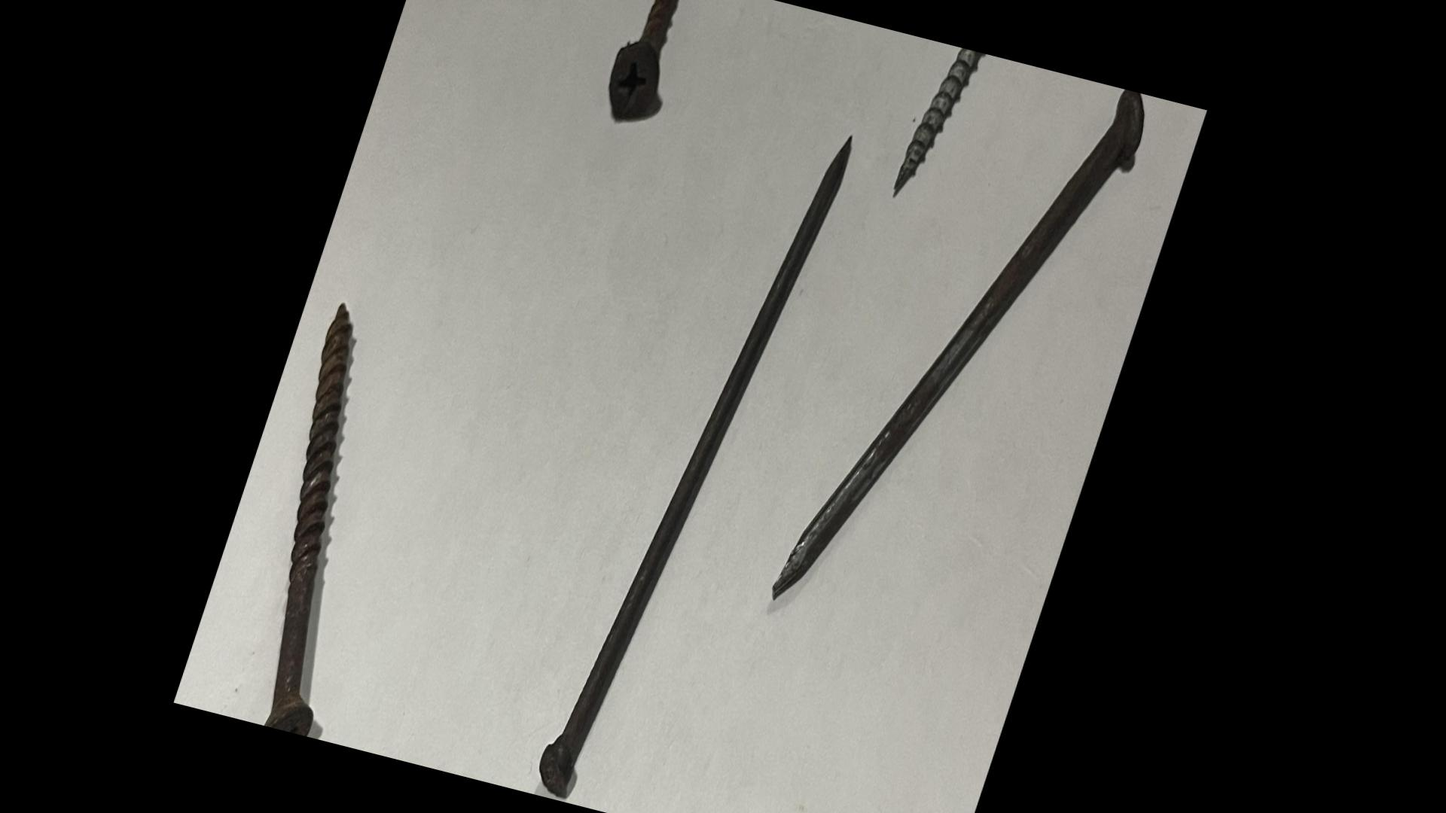nail: (527, 10, 917, 813), (752, 44, 1171, 709)
screw: (208, 228, 491, 741), (869, 39, 1058, 254), (548, 0, 713, 191)
